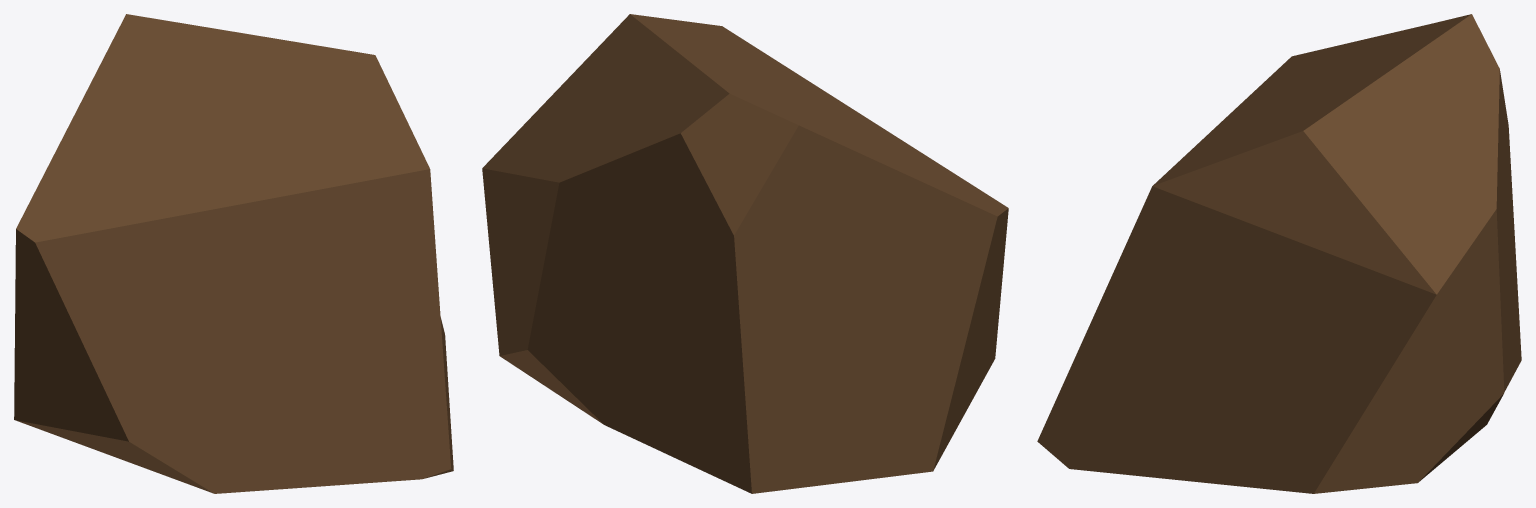
Rendered from stone-small_brown.glb.
3 renders of one model, left to right at view 1: azimuth 30°, elevation 25°; view 2: azimuth 150°, elevation 25°; view 3: azimuth 270°, elevation 25°, orthographic. The views are drawn at different scales.
Parts seen in each view (by area): view 1: stone-small_brown; view 2: stone-small_brown; view 3: stone-small_brown.
Part boxes in pixels (x1,y1,x2,y2): stone-small_brown: (14,14,453,493); stone-small_brown: (482,14,1008,493); stone-small_brown: (1037,14,1521,493).
Size of the model in its own units: 0.6359 by 0.5069 by 0.5837.
1 material, 1 textured.
